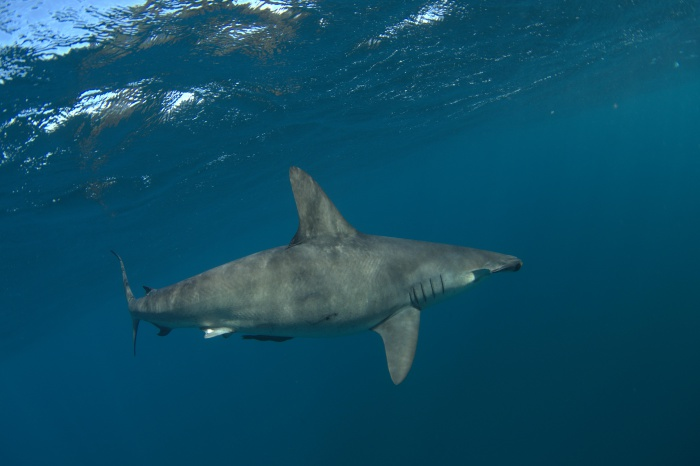Hammer: (355, 219, 564, 308)
